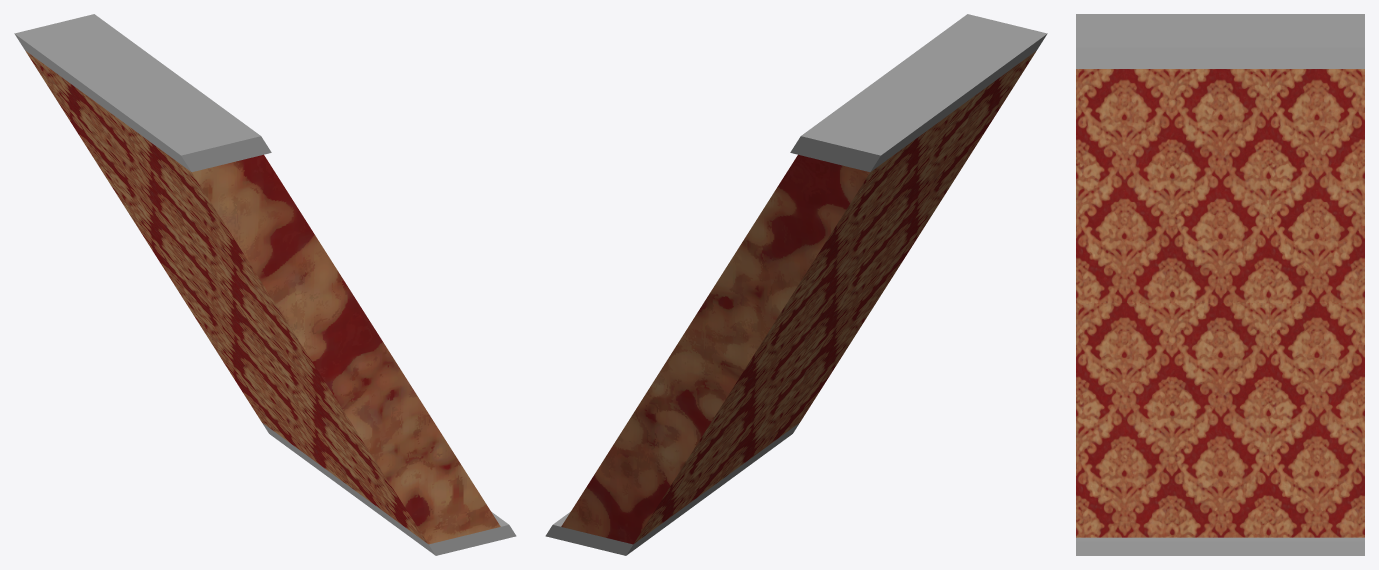
File: INV_Wall_3x2.fbx
3 views of the same model, side by side, from view 1: azimuth 30°, elevation 25°; view 2: azimuth 150°, elevation 25°; view 3: azimuth 270°, elevation 25° (orthographic). The views are drawn at different scales.
Visible parts, largest first — view 1: INV_Wall_3x2; view 2: INV_Wall_3x2; view 3: INV_Wall_3x2.
Boxes of the visible parts, x1,y1,x2,y2 form: INV_Wall_3x2: [14, 14, 516, 555]; INV_Wall_3x2: [545, 14, 1047, 555]; INV_Wall_3x2: [1076, 14, 1364, 555].
Bounding box in the file's own units: 465 × 612 × 400.
Materials: 2 (1 with a texture image).
